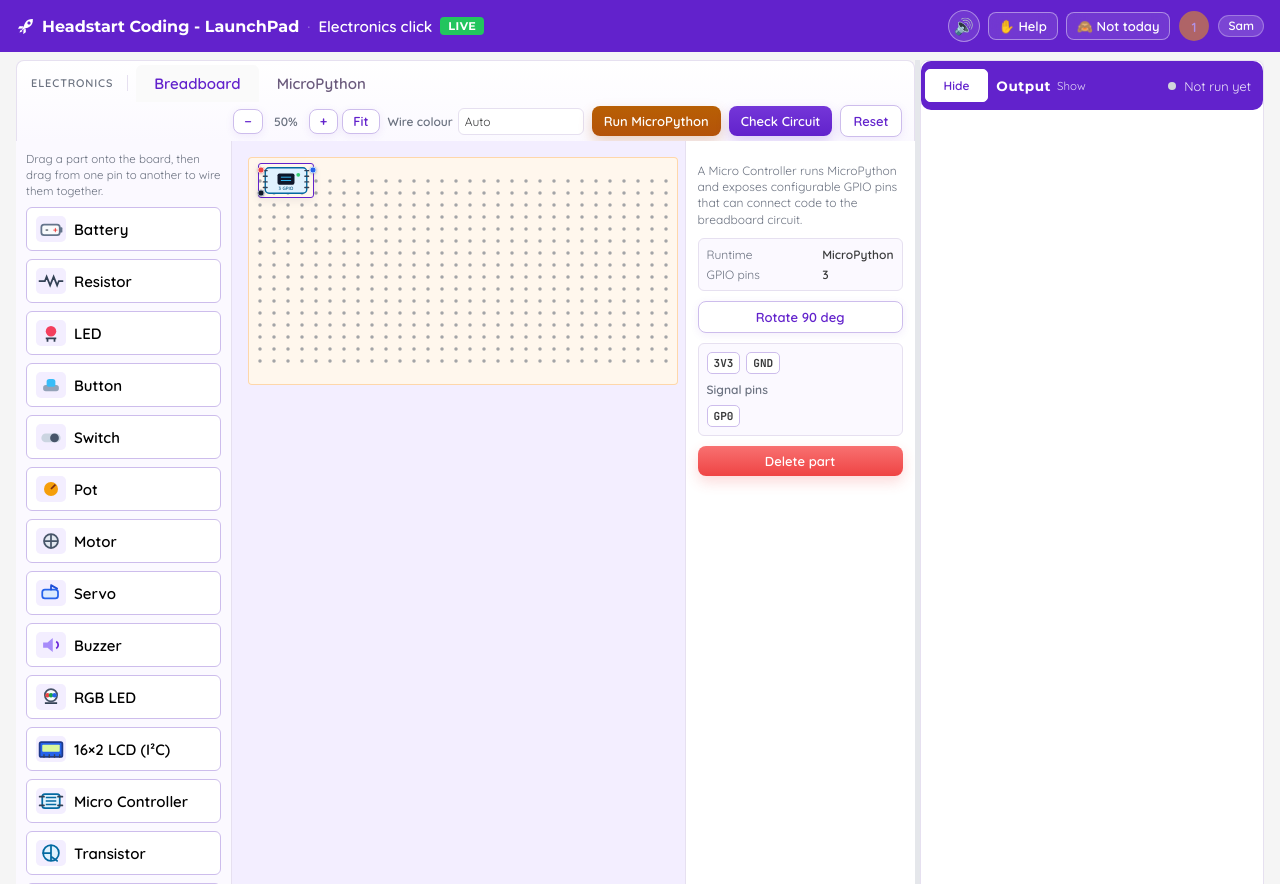
StudentView module click-through › electronics: loads and performs its primary action without errors
This screenshot has width=1280, height=884.
Click the button "Run MicroPython". click: (656, 121)
box: [592,106,721,136]
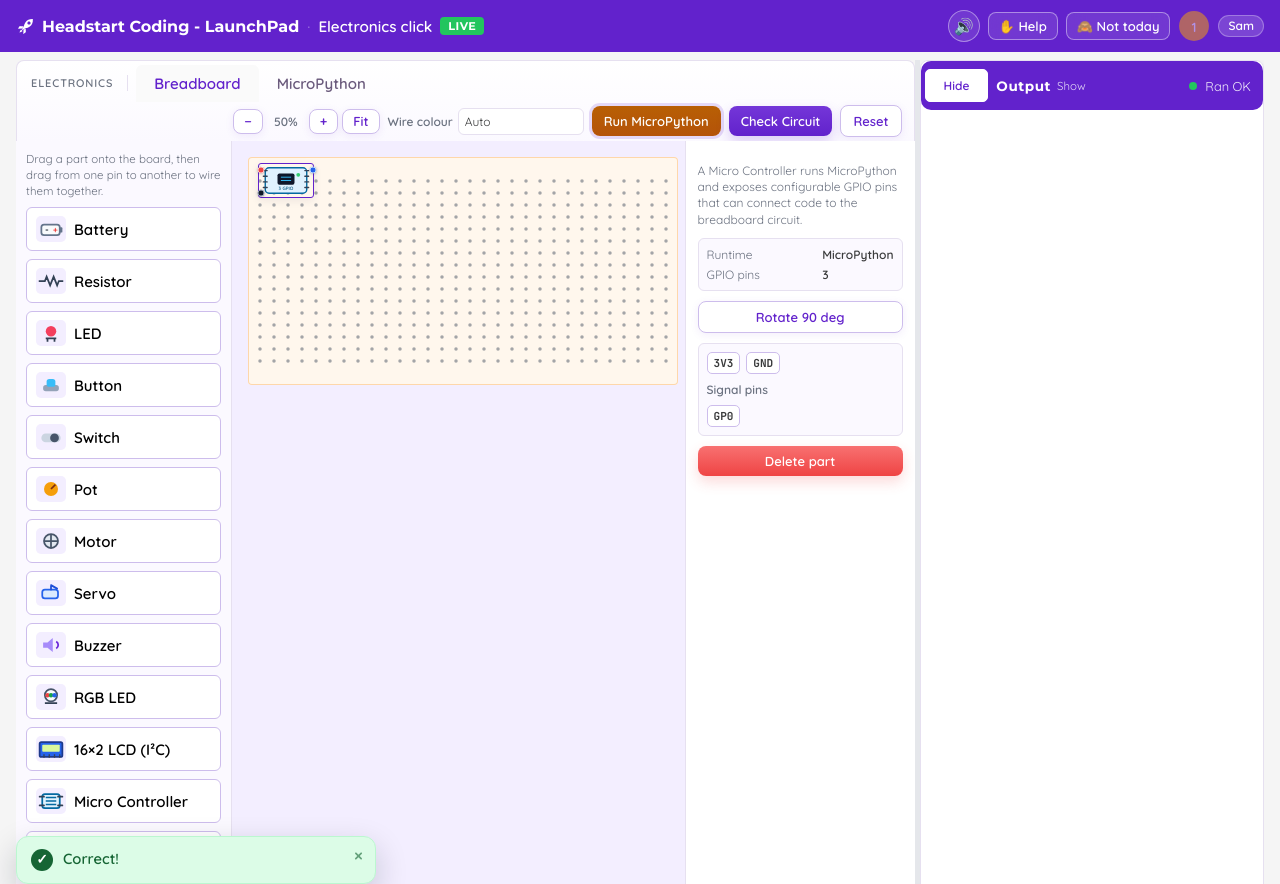
Click the button "Run MicroPython". click: (656, 121)
box: [592,106,721,136]
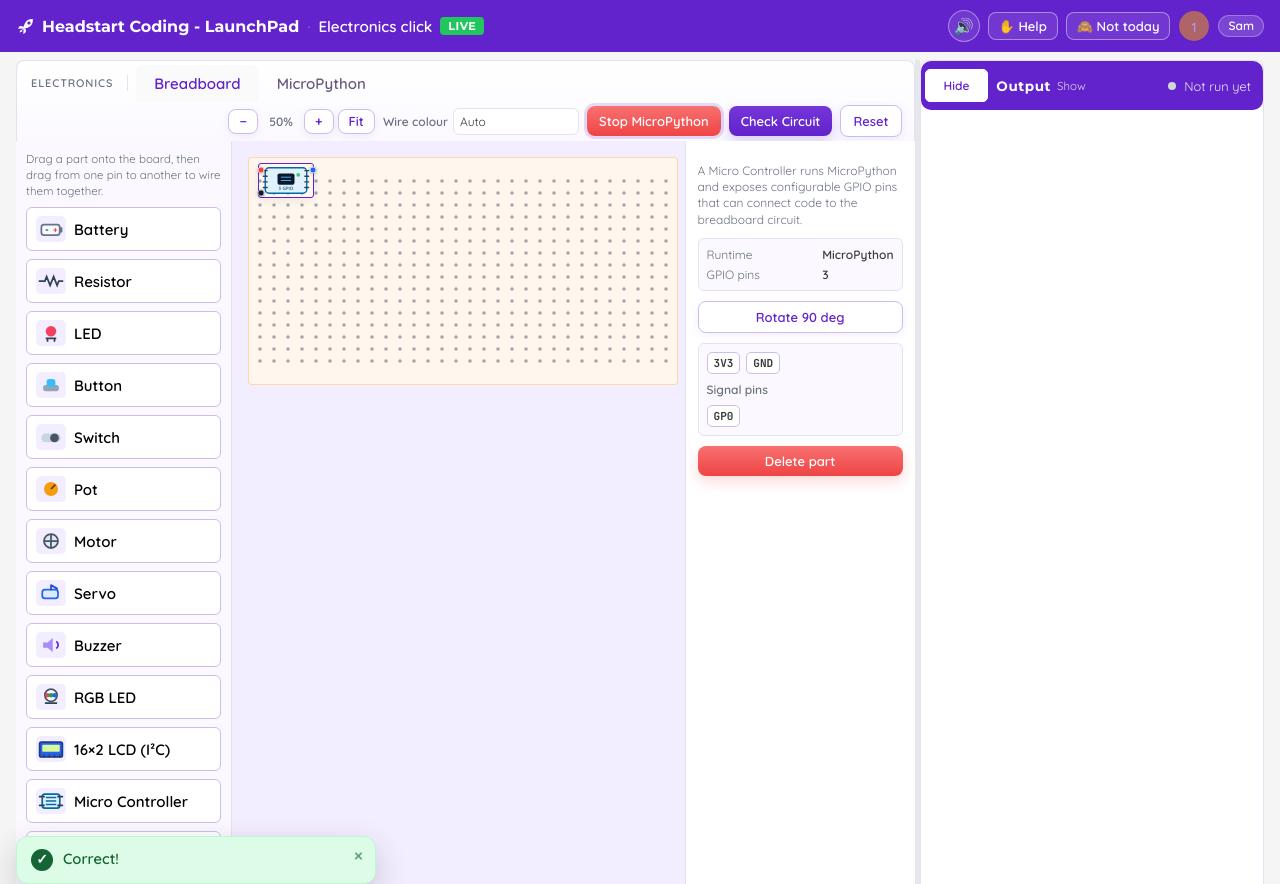
Click the button "Stop MicroPython". click: (654, 121)
box: [587,106,721,136]
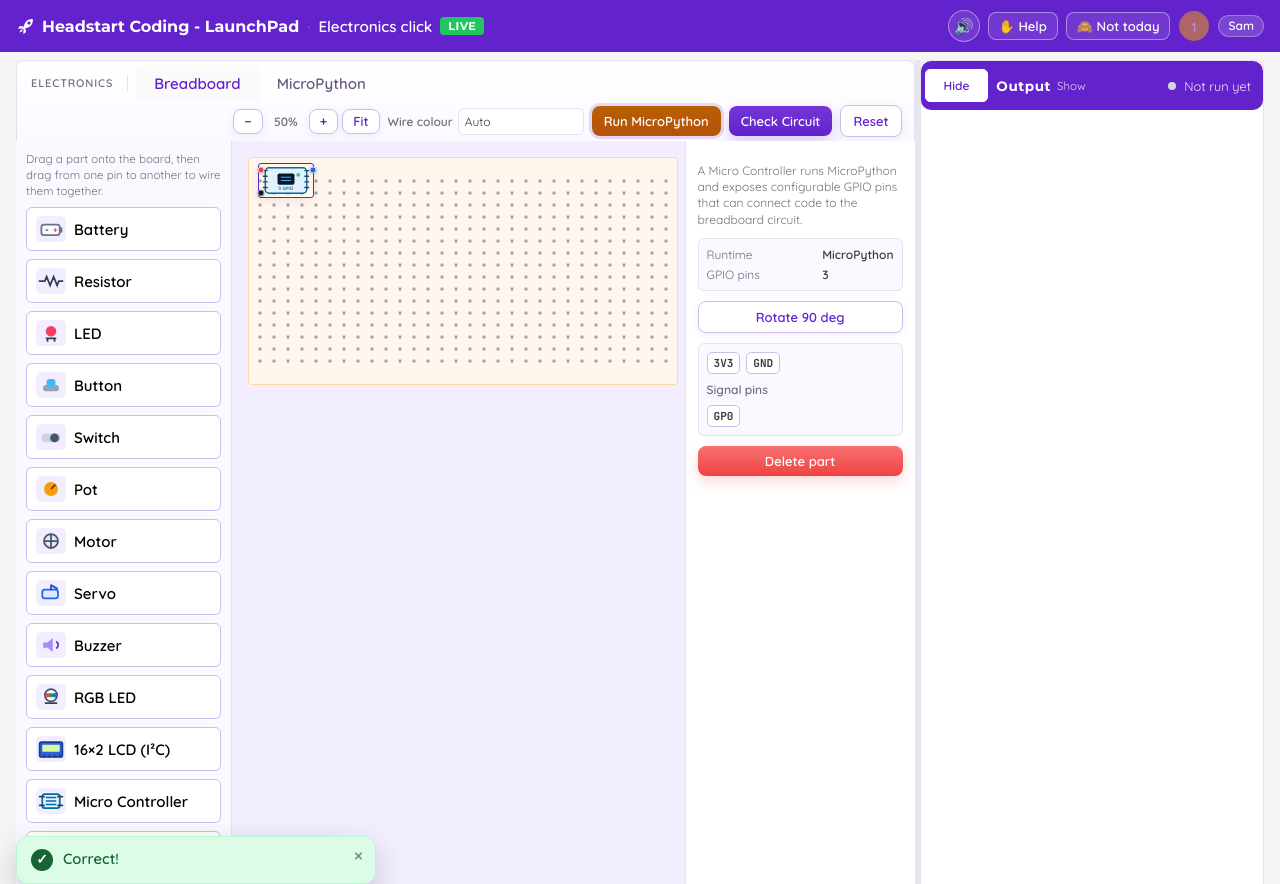
Check: the button "Run MicroPython" is shown, box [592,106,721,136]
